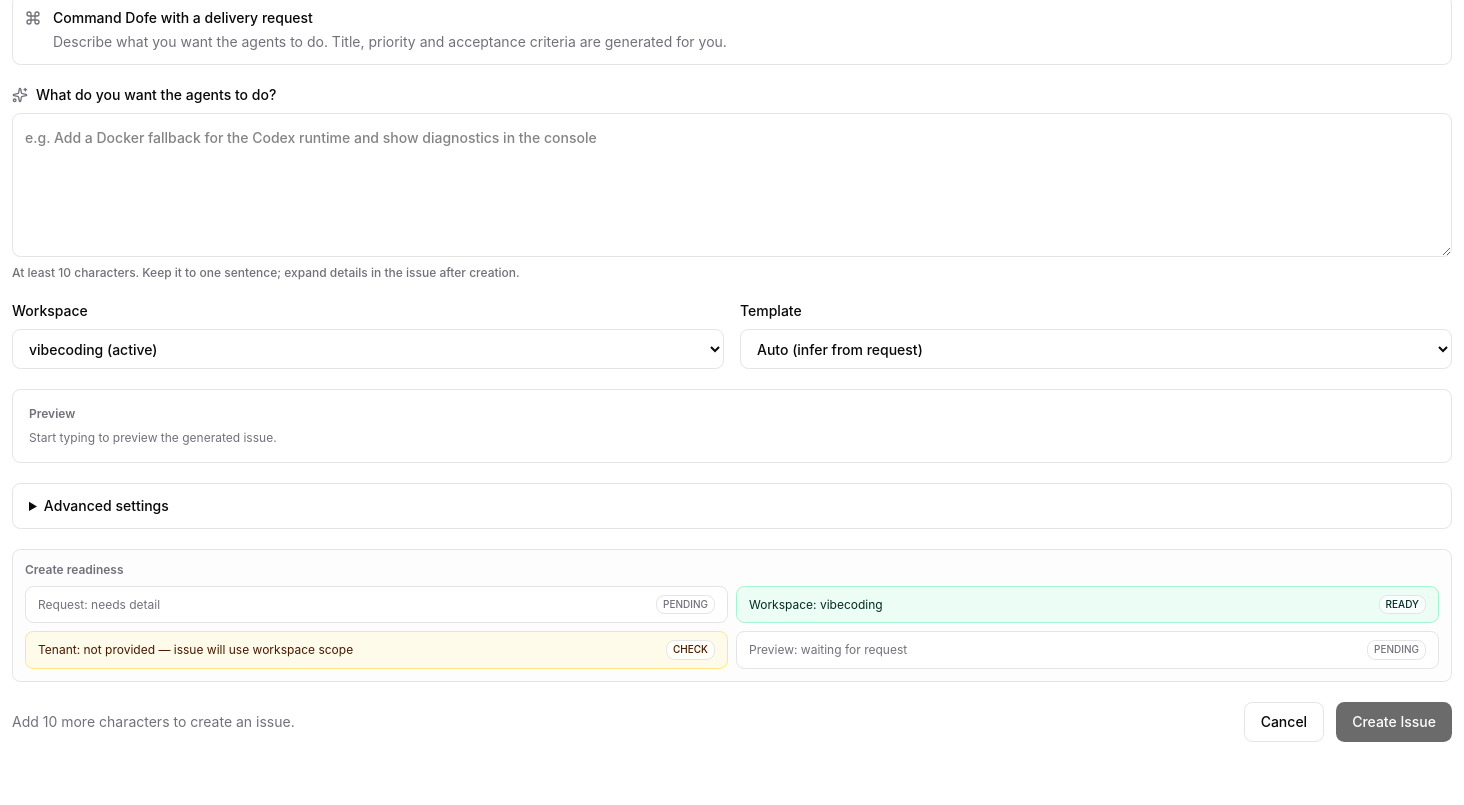
Scenario: SimpleLoopIssueForm (0622 · B5 simple-mode intake) › shows a pre-submit readiness checklist for operator confidence
Check: the heading "Create readiness" is shown, box top-left (25, 562), bottom-right (124, 577)
Check: the text "Request: needs detail" is shown, box top-left (38, 597), bottom-right (160, 613)
Step 1. Type "Add a summary card to the loops dashboard" into the text box with placeholder "Add a Docker fallback" → (732,185), box top-left (12, 113), bottom-right (1452, 257)
(page scrolled)
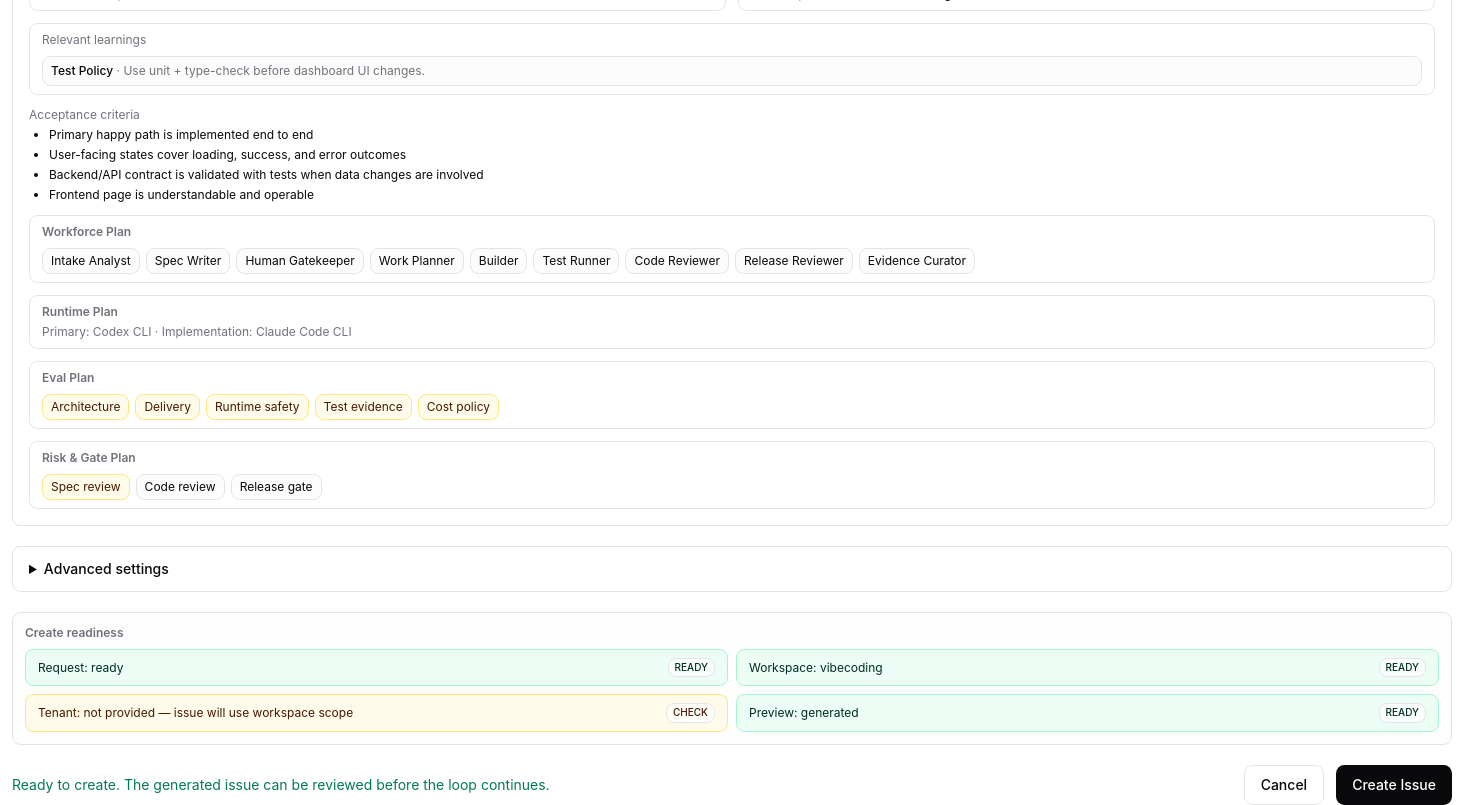
Check: the text "Request: ready" is shown, box top-left (38, 660), bottom-right (123, 676)
Check: the text "Preview: generated" is shown, box top-left (749, 705), bottom-right (859, 721)
Check: the text "Ready" in the row of "Request: ready" is shown, box top-left (675, 661), bottom-right (708, 673)
